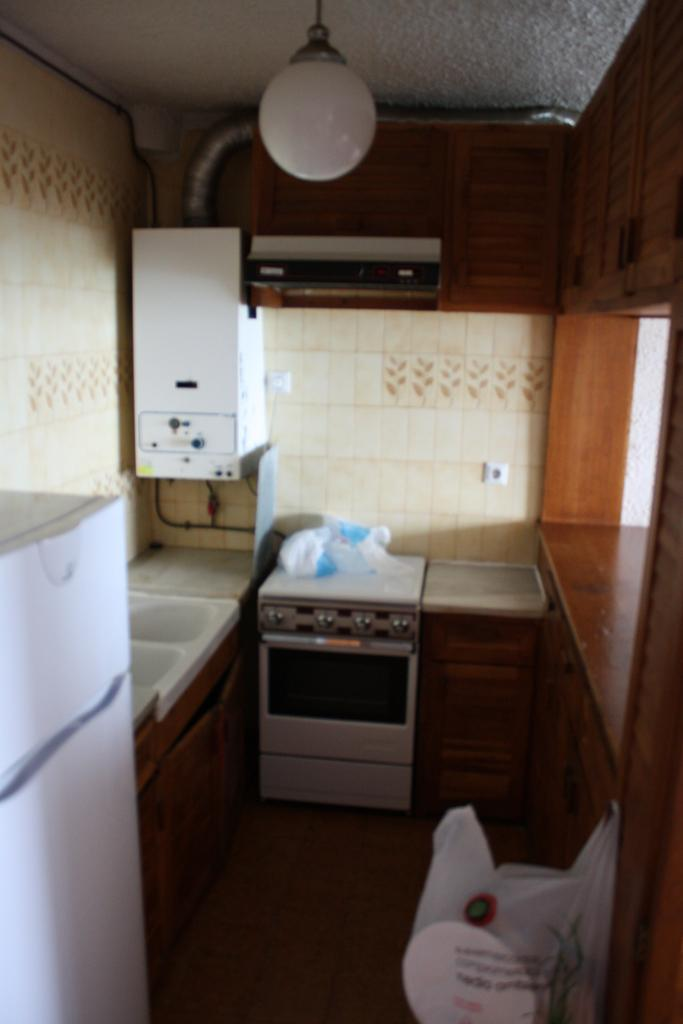cabinet_door: (430, 652, 520, 752), (166, 741, 213, 868), (219, 696, 244, 830)
handle: (1, 690, 124, 756)
